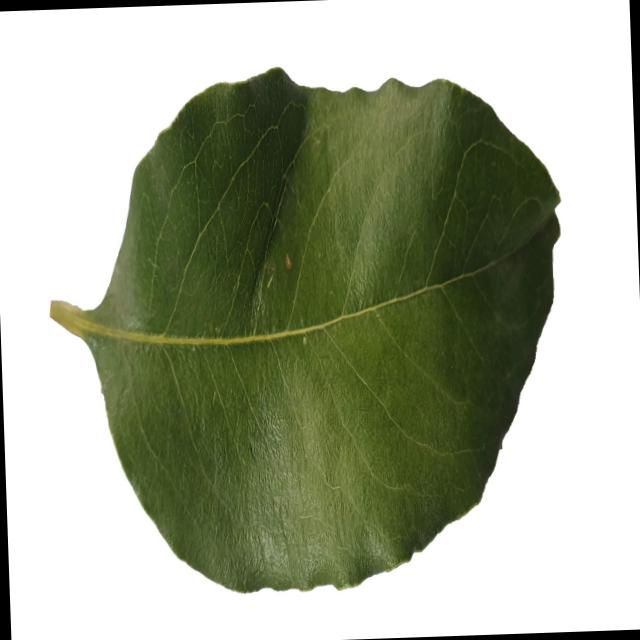Medicinal-Sandalwood: (40, 53, 572, 594)
